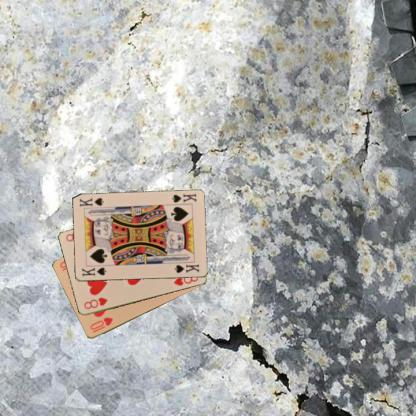10h: (87, 315, 114, 334)
8h: (82, 295, 108, 311)
Ks: (169, 191, 197, 204), (79, 266, 108, 277)
